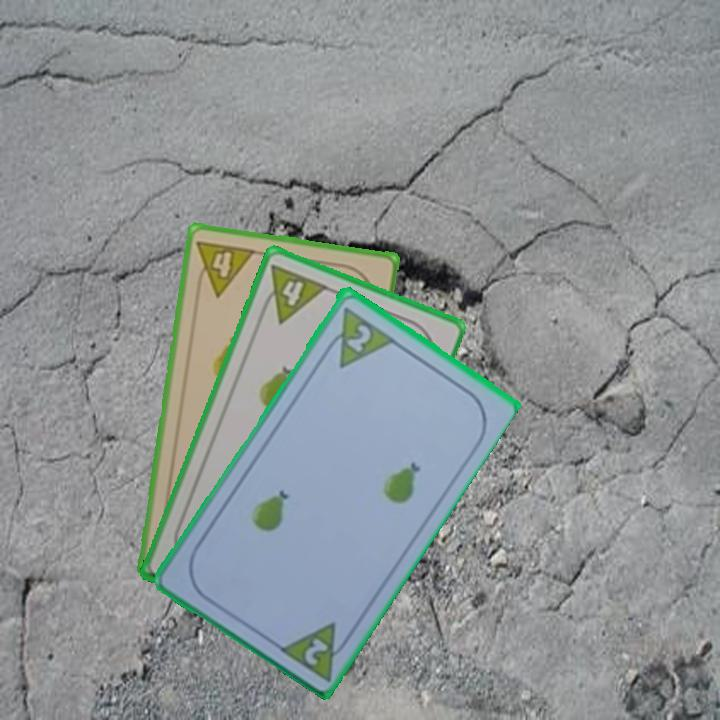2p: (318, 302, 396, 371), (300, 633, 331, 668)
4p: (255, 260, 330, 326), (191, 236, 258, 300)
